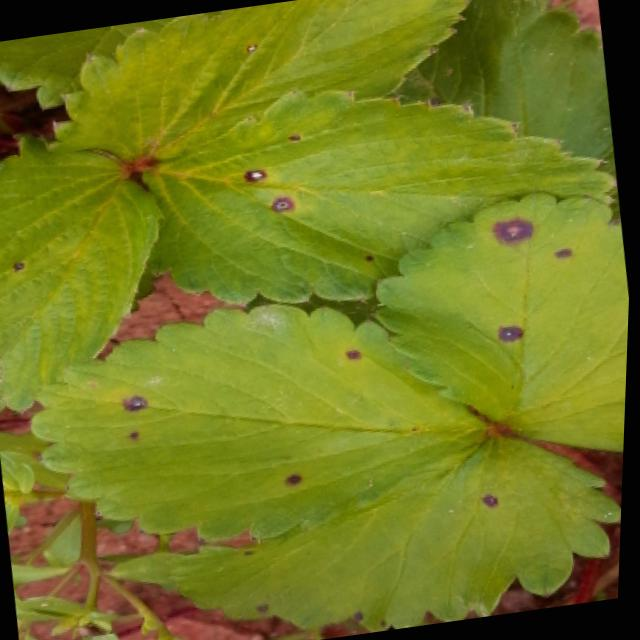Leaf Spot: (33, 303, 501, 541), (111, 428, 625, 637), (136, 88, 619, 304), (52, 0, 468, 164), (374, 191, 631, 452), (0, 136, 159, 417)
